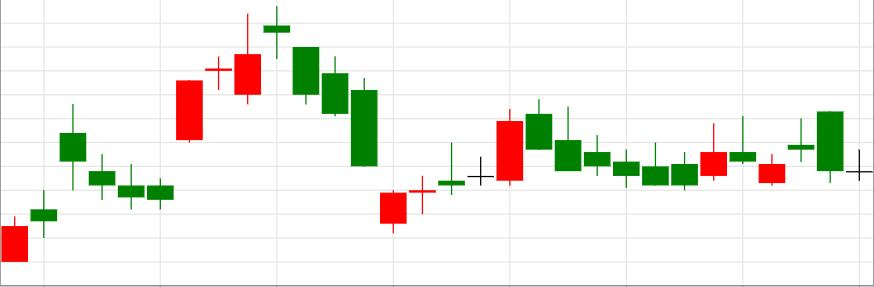evening_star_fall: (147, 6, 321, 208)
